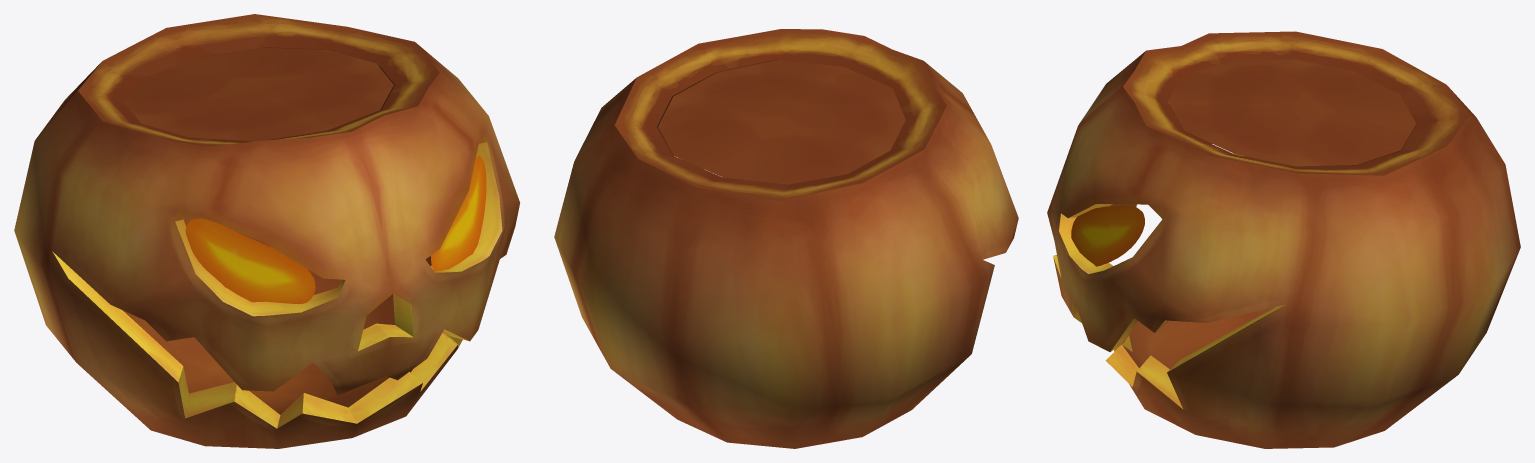
File: nangua01_di.fbx
3 renders of one model, left to right at view 1: azimuth 30°, elevation 25°; view 2: azimuth 150°, elevation 25°; view 3: azimuth 270°, elevation 25°, orthographic. The views are drawn at different scales.
Visible parts, largest first — view 1: pumpkin_zug_01; view 2: pumpkin_zug_01; view 3: pumpkin_zug_01.
Boxes of the visible parts, x1,y1,x2,y2 form: pumpkin_zug_01: [14, 14, 519, 448]; pumpkin_zug_01: [554, 29, 1018, 448]; pumpkin_zug_01: [1047, 31, 1520, 448].
Size of the model in its own units: 4.62 by 3.49 by 4.57.
